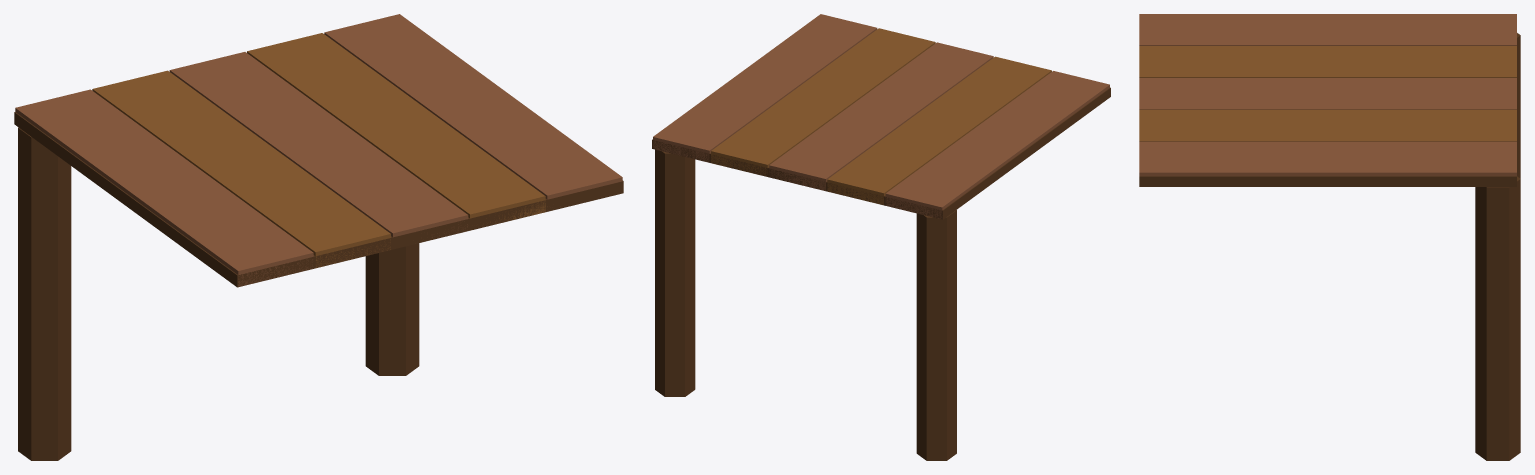
Rendered from PR_Building_IskeleTahta.fbx.
The picture shows the model from 3 angles, left to right: view 1: azimuth 30°, elevation 25°; view 2: azimuth 150°, elevation 25°; view 3: azimuth 270°, elevation 25°; orthographic projection. The views are drawn at different scales.
Parts seen in each view (by area): view 1: PR_Building_IskeleTahta; view 2: PR_Building_IskeleTahta; view 3: PR_Building_IskeleTahta.
Part boxes in pixels (x1,y1,x2,y2): PR_Building_IskeleTahta: (14,14,623,460); PR_Building_IskeleTahta: (652,14,1110,460); PR_Building_IskeleTahta: (1139,14,1520,460).
Size of the model in its own units: 1 by 0.84 by 1.01.
